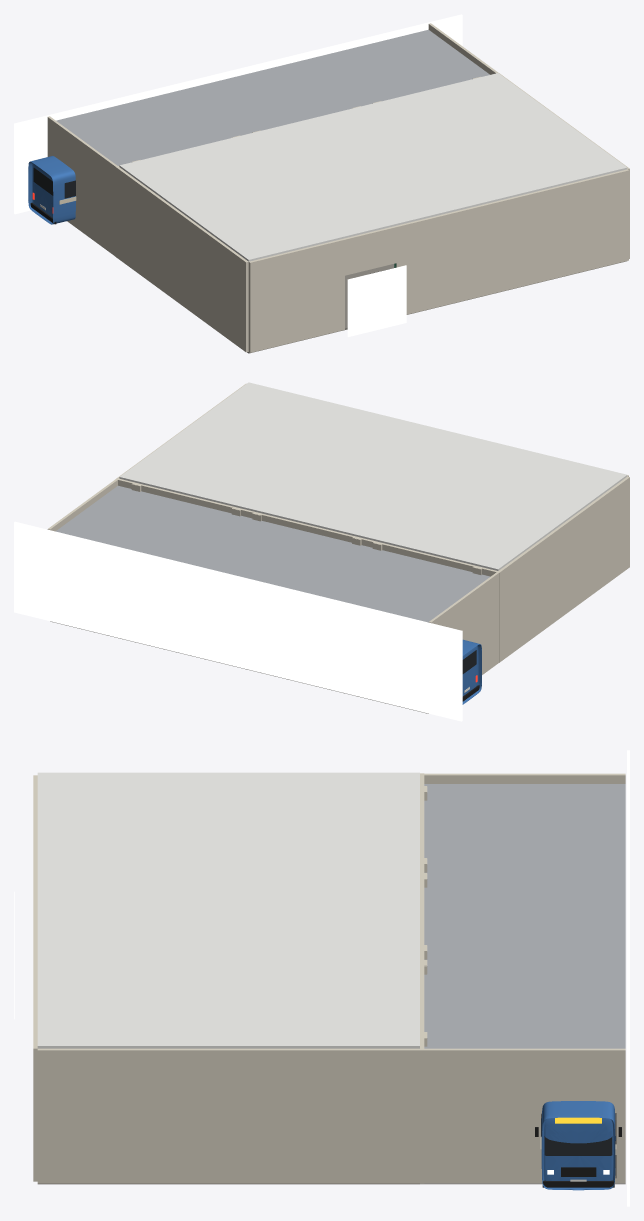
File: room_bus.glb
3 renders of one model, top to bottom at view 1: azimuth 30°, elevation 25°; view 2: azimuth 150°, elevation 25°; view 3: azimuth 270°, elevation 25°, orthographic. The views are drawn at different scales.
Parts seen in each view (by area): view 1: Room; view 2: Room; view 3: Room.
Boxes of the visible parts, x1,y1,x2,y2 form: Room: (14,14,629,353); Room: (14,382,629,721); Room: (14,750,629,1206).
Size of the model in its own units: 26 by 5.2 by 20.96.
Materials: 58 (5 with a texture image).
